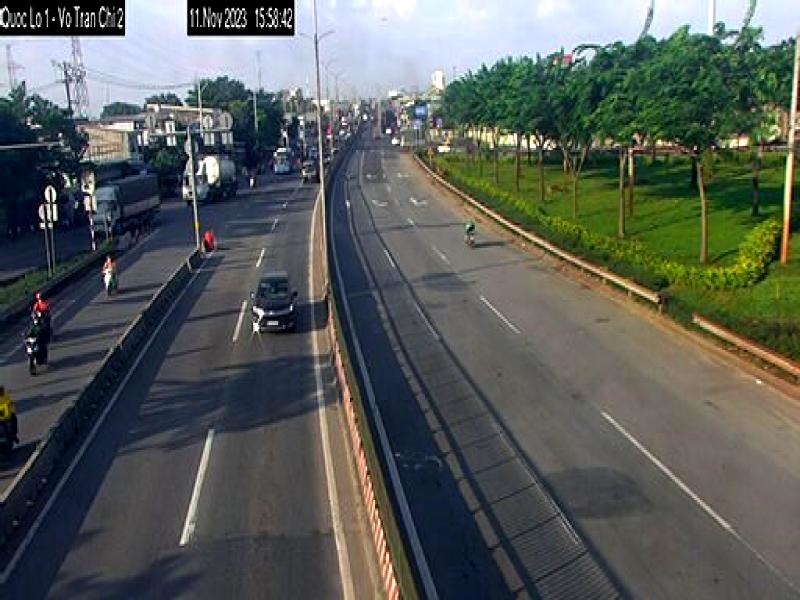truck: (90, 169, 165, 248)
